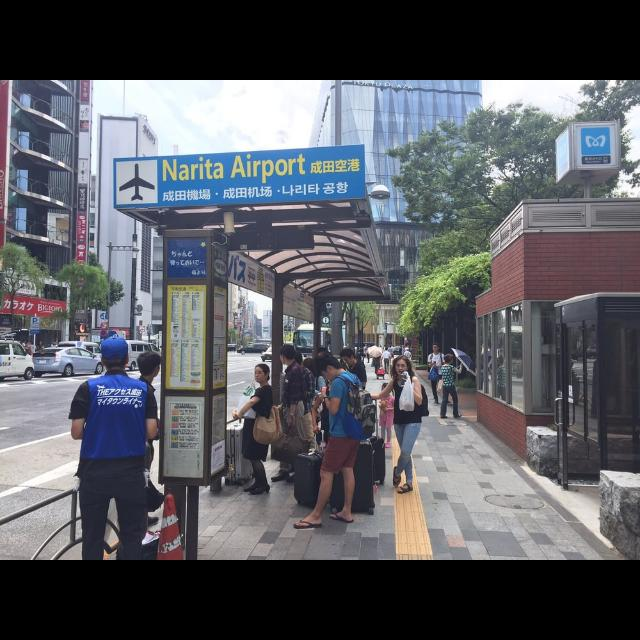head: (100, 338, 130, 372), (318, 354, 342, 382), (137, 350, 161, 378), (280, 344, 296, 366), (395, 356, 411, 376), (255, 363, 271, 383), (302, 357, 318, 375), (332, 363, 348, 381), (342, 348, 356, 368), (291, 352, 303, 364), (382, 382, 392, 394), (445, 355, 455, 365), (433, 343, 441, 353), (374, 351, 380, 355), (406, 348, 410, 352), (388, 346, 392, 348), (386, 347, 388, 351)
person: (292, 353, 378, 531), (115, 350, 167, 540), (364, 354, 430, 498), (231, 362, 285, 498), (310, 362, 354, 492), (270, 342, 308, 484), (287, 350, 321, 480), (336, 346, 368, 462), (298, 356, 328, 462), (436, 352, 466, 420), (427, 340, 453, 408), (378, 380, 398, 450), (371, 350, 385, 380), (381, 347, 393, 375), (402, 347, 413, 369), (388, 344, 394, 364)
